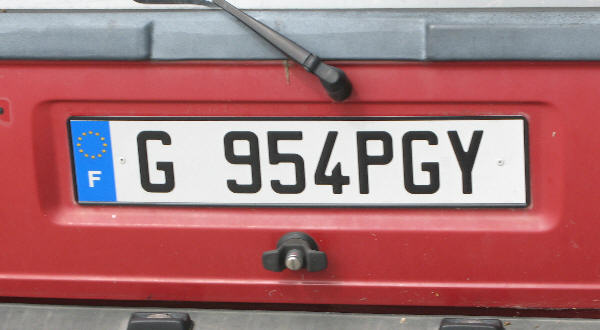license_plate: (66, 115, 529, 208)
